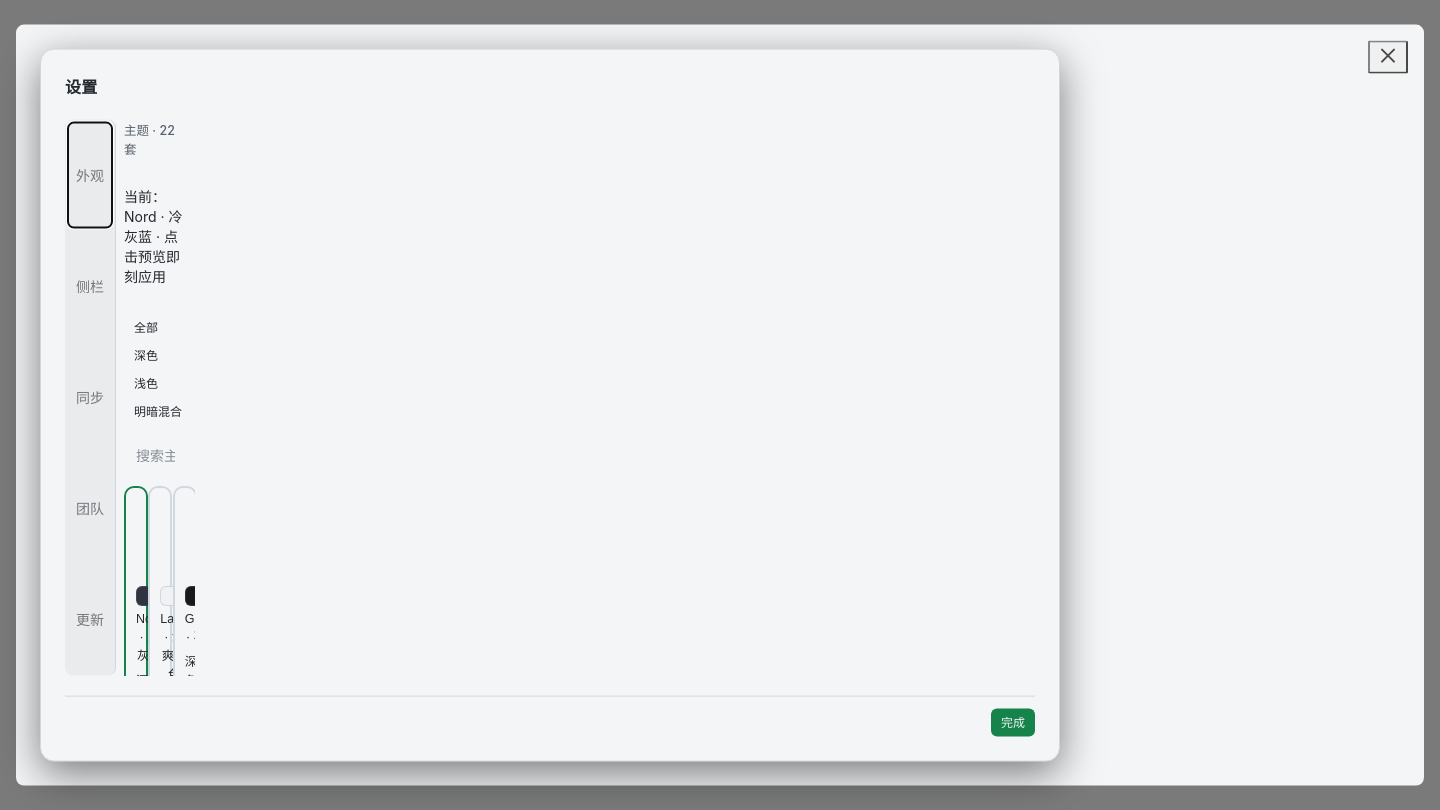
Test: filters mixed themes, searches by name and selects a preset
Click the button "明暗混合" at coordinates (158, 412), box [124,398,192,426]
(page scrolled)
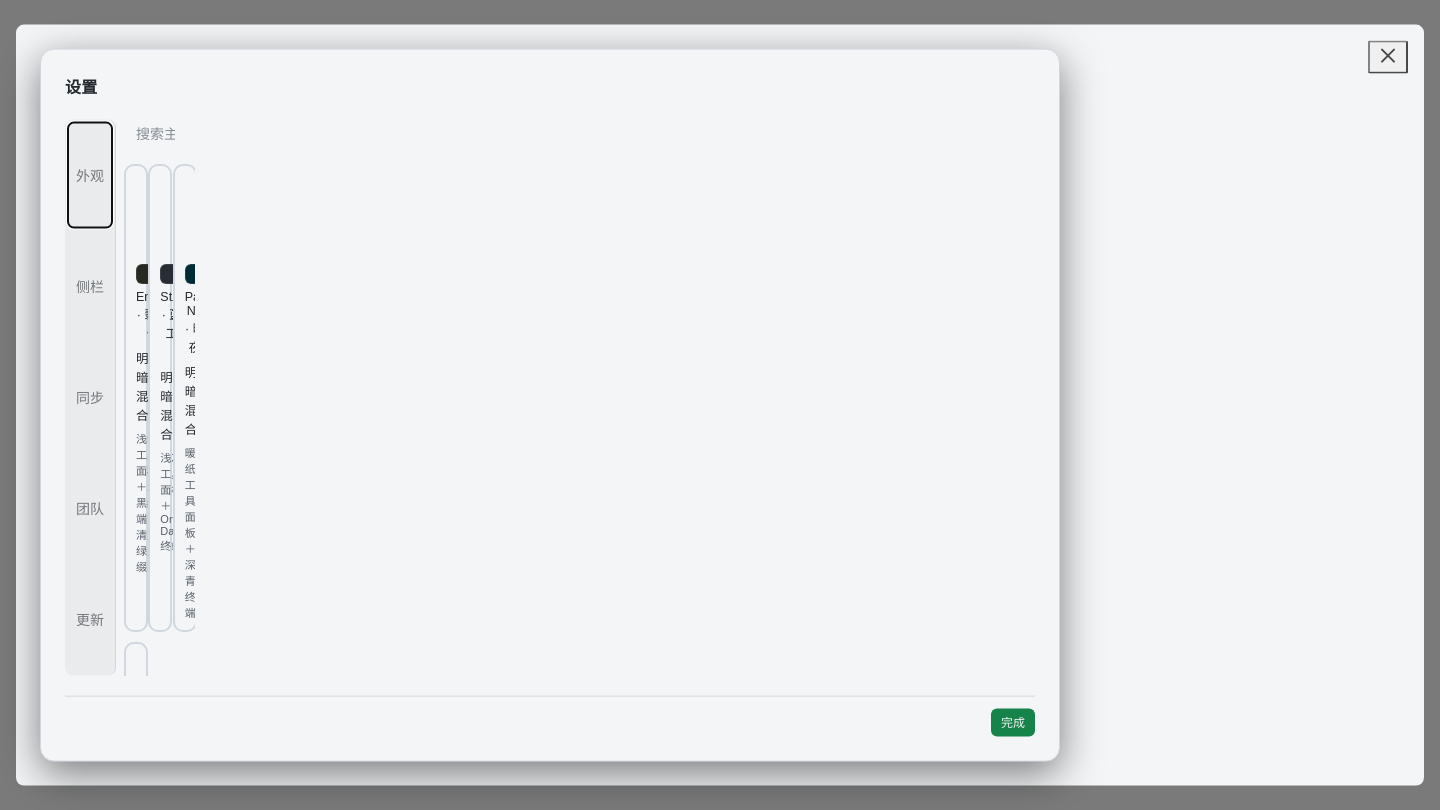
Click the button "Emerald · 翡翠工作台 明暗混合 浅色工具面板＋炭黑终端，清爽绿点缀" at coordinates (136, 398), box [124,164,148,632]
(page scrolled)
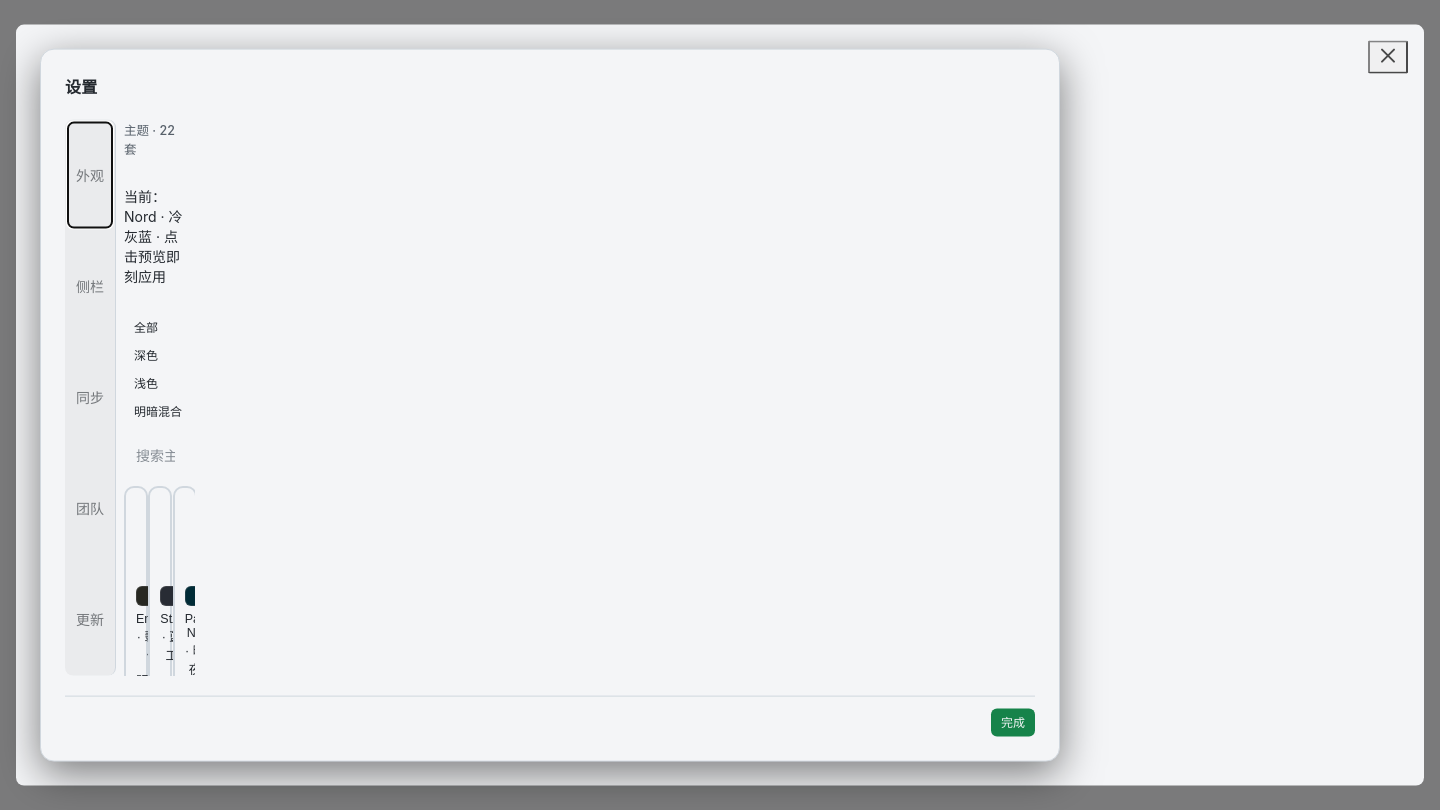
Click the button "全部" at coordinates (146, 328), box [124,314,168,342]
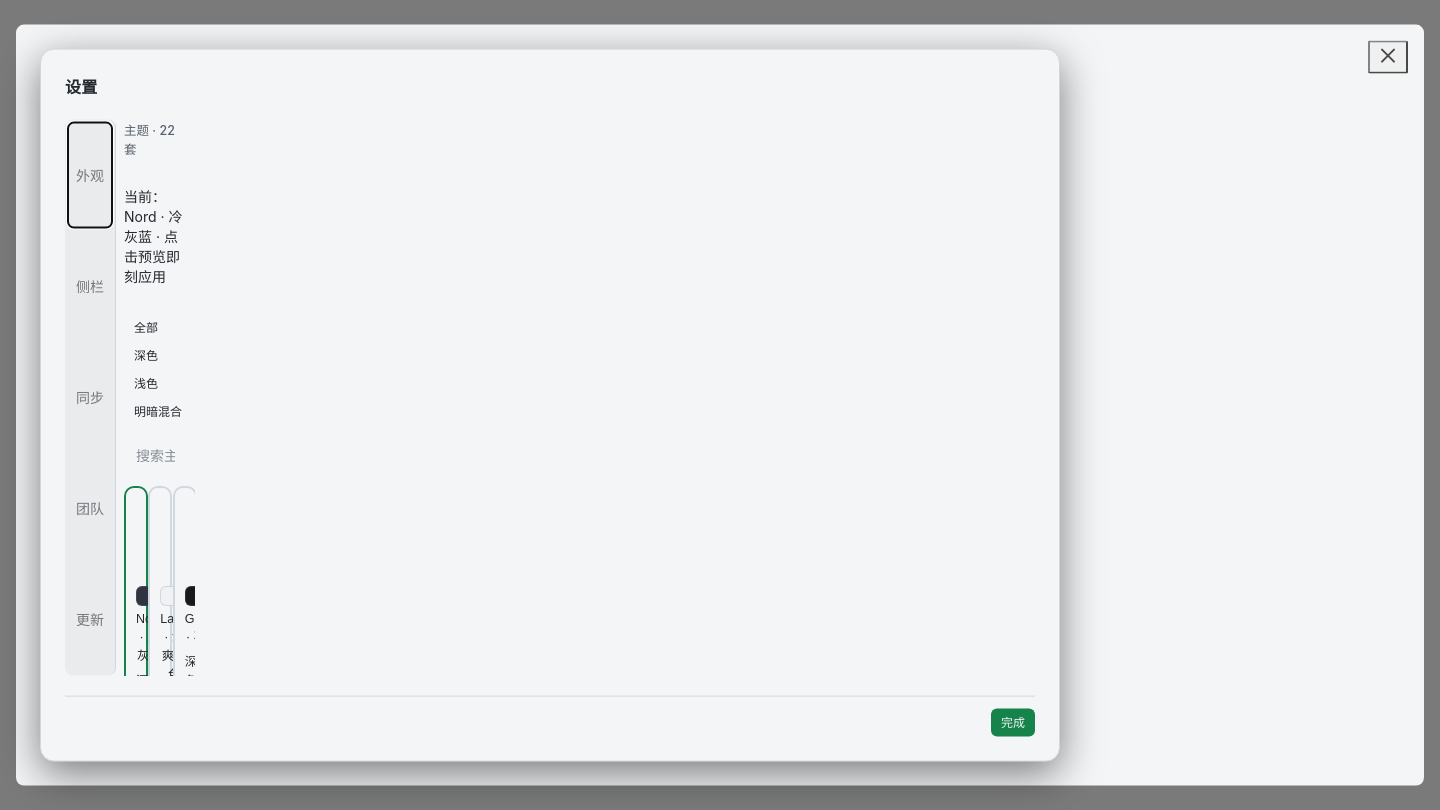
Type "One Dark Pro" into the field labelled "搜索主题" at coordinates (156, 456), box [124,440,187,472]
(page scrolled)
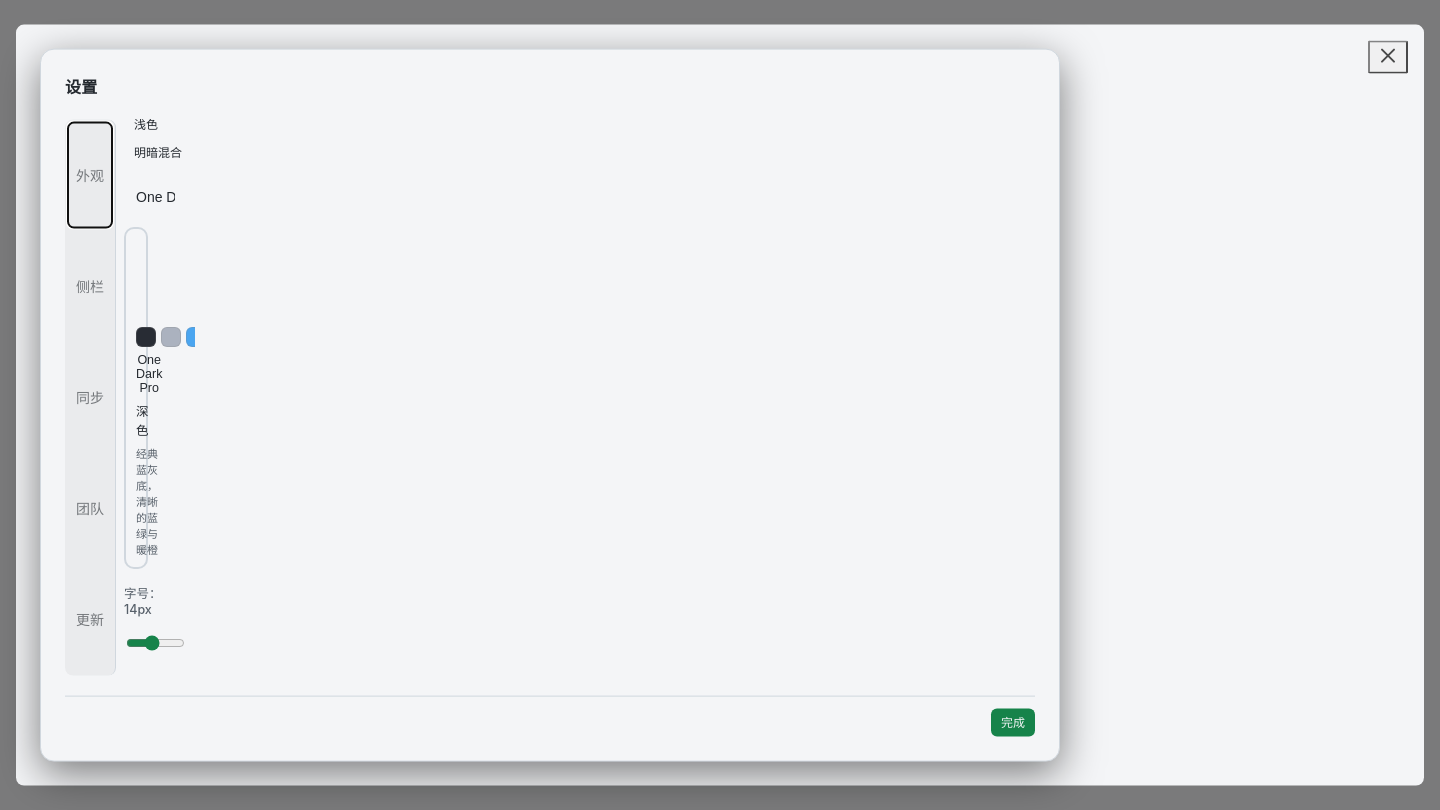
Result: the number of buttons with class "theme-card" is 1 at [124,227,148,569]
